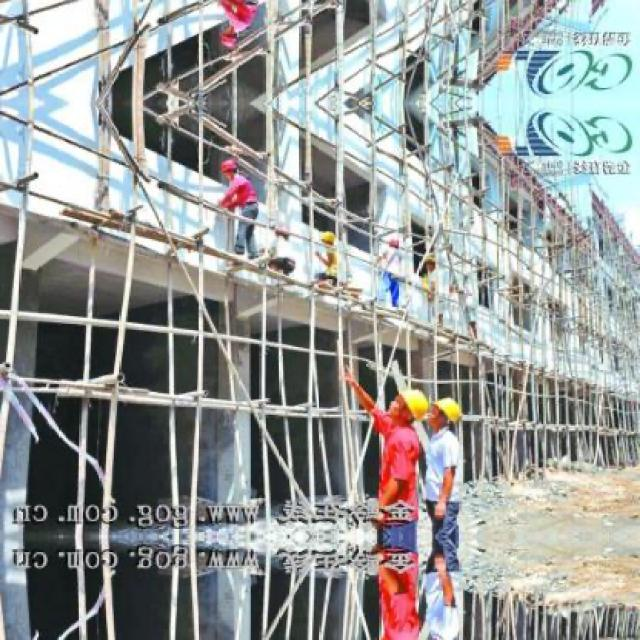con casco: (368, 376, 464, 434)
